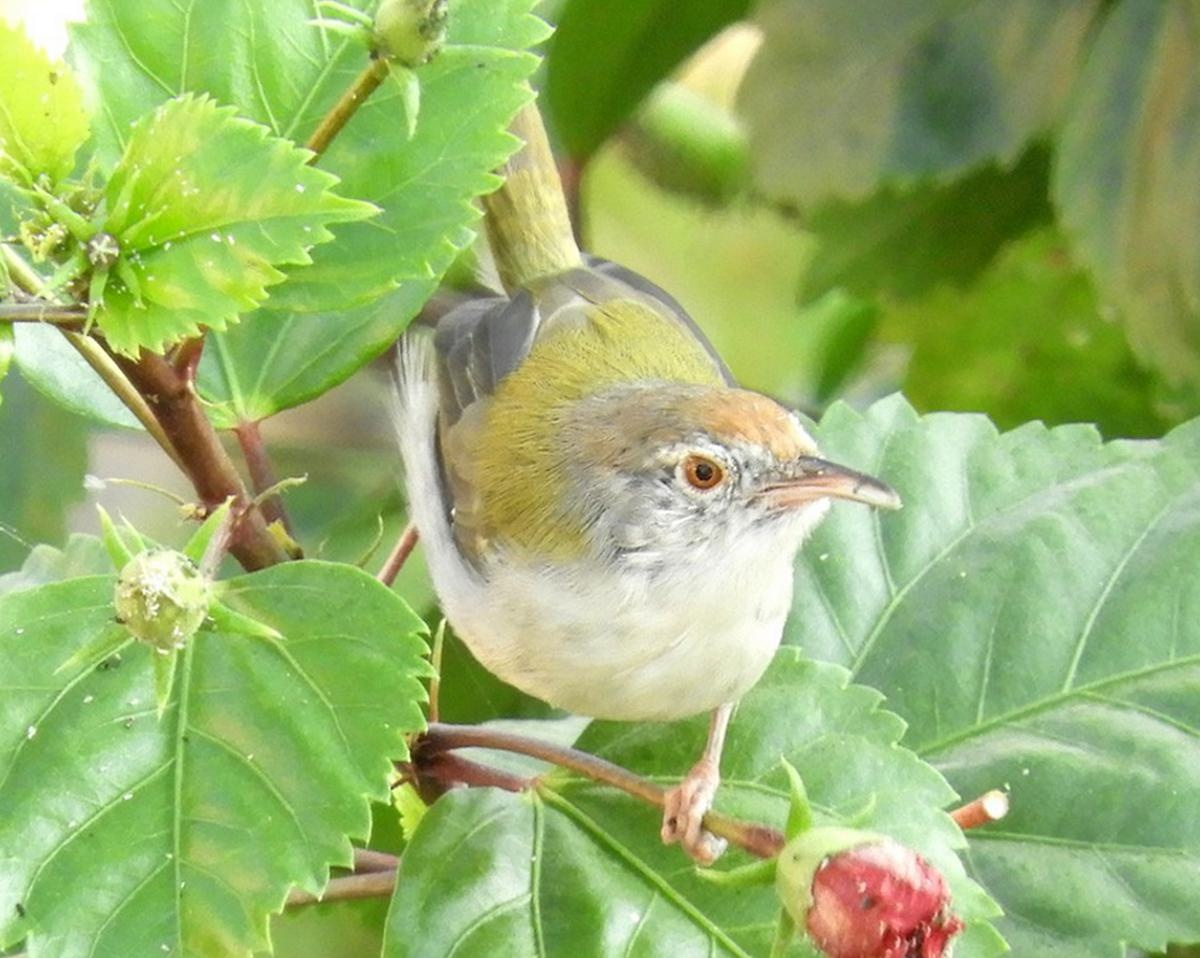tailorbird: (365, 220, 933, 817)
